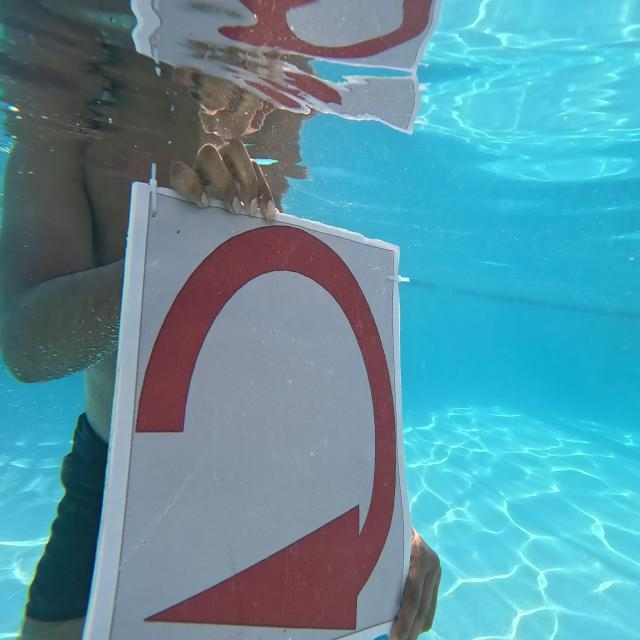red_side: (99, 141, 411, 640)
